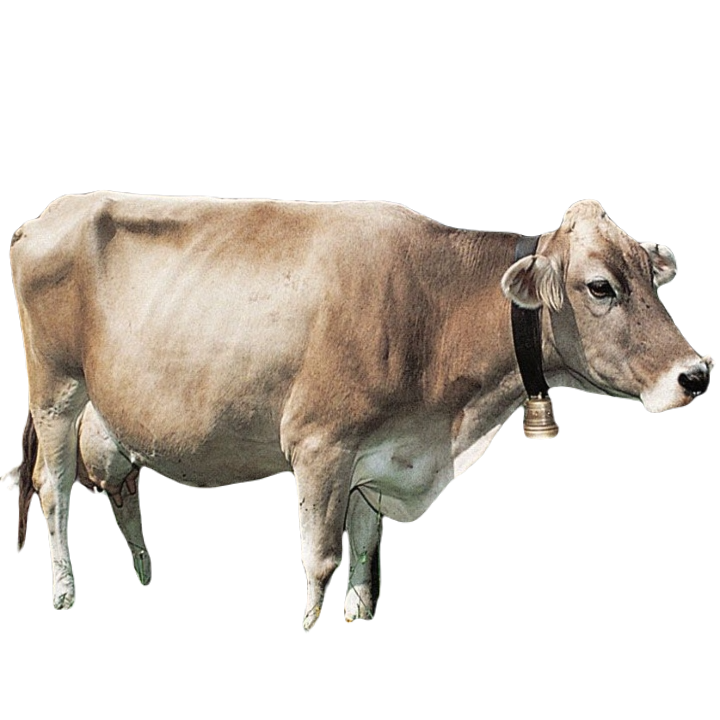Cow: (10, 195, 710, 625)
